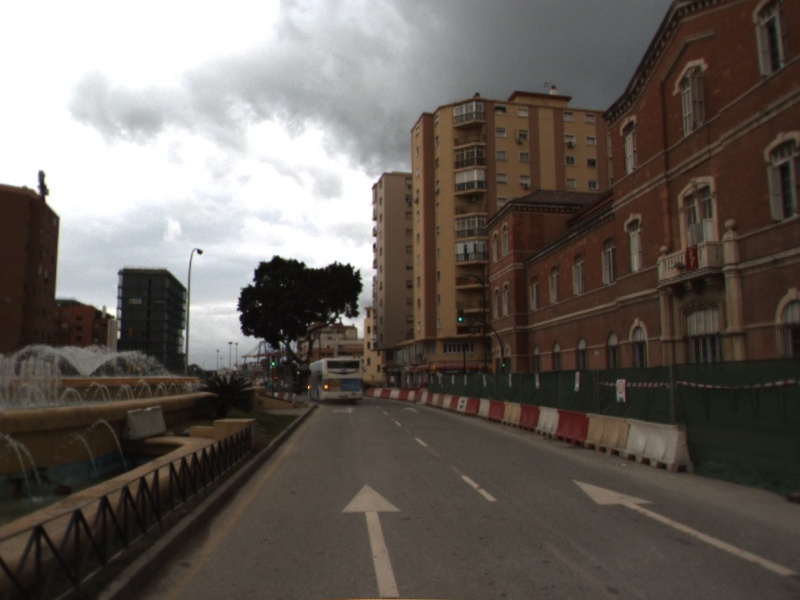STRAIGHT: (570, 476, 799, 577), (340, 481, 404, 599)
